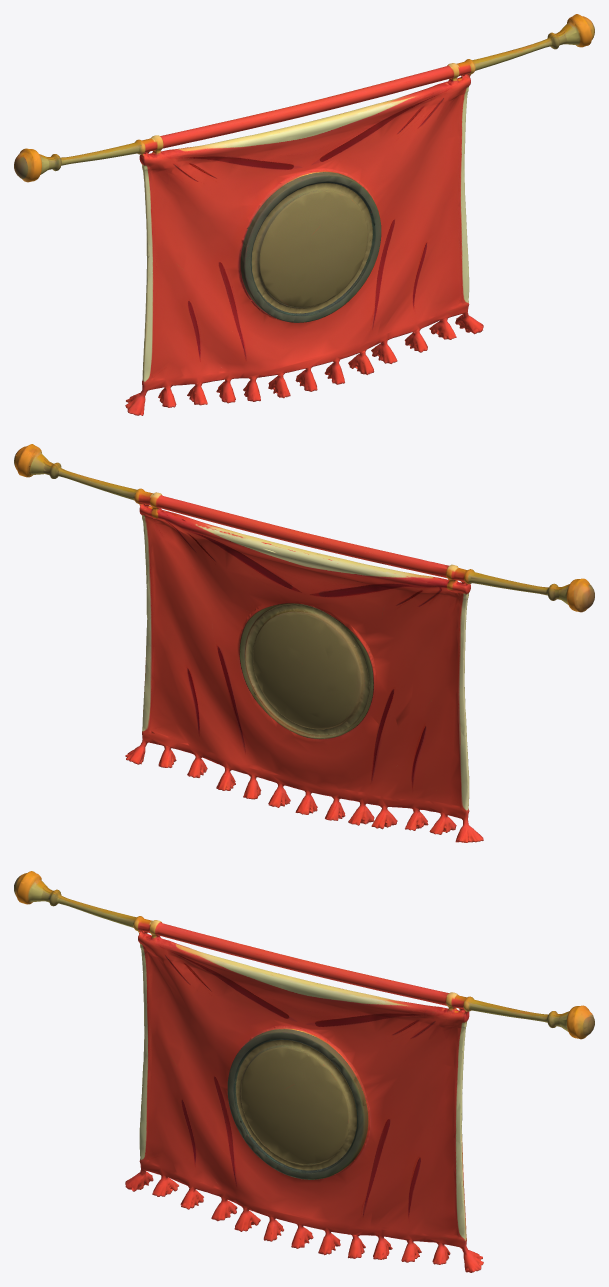
Rendered from prop-banner.glb.
3 renders of one model, top to bottom at view 1: azimuth 30°, elevation 25°; view 2: azimuth 150°, elevation 25°; view 3: azimuth 330°, elevation 25°, orthographic.
Bounding box in the file's own units: 1.91 × 0.9561 × 0.1355.
Materials: 1 (1 with a texture image).
